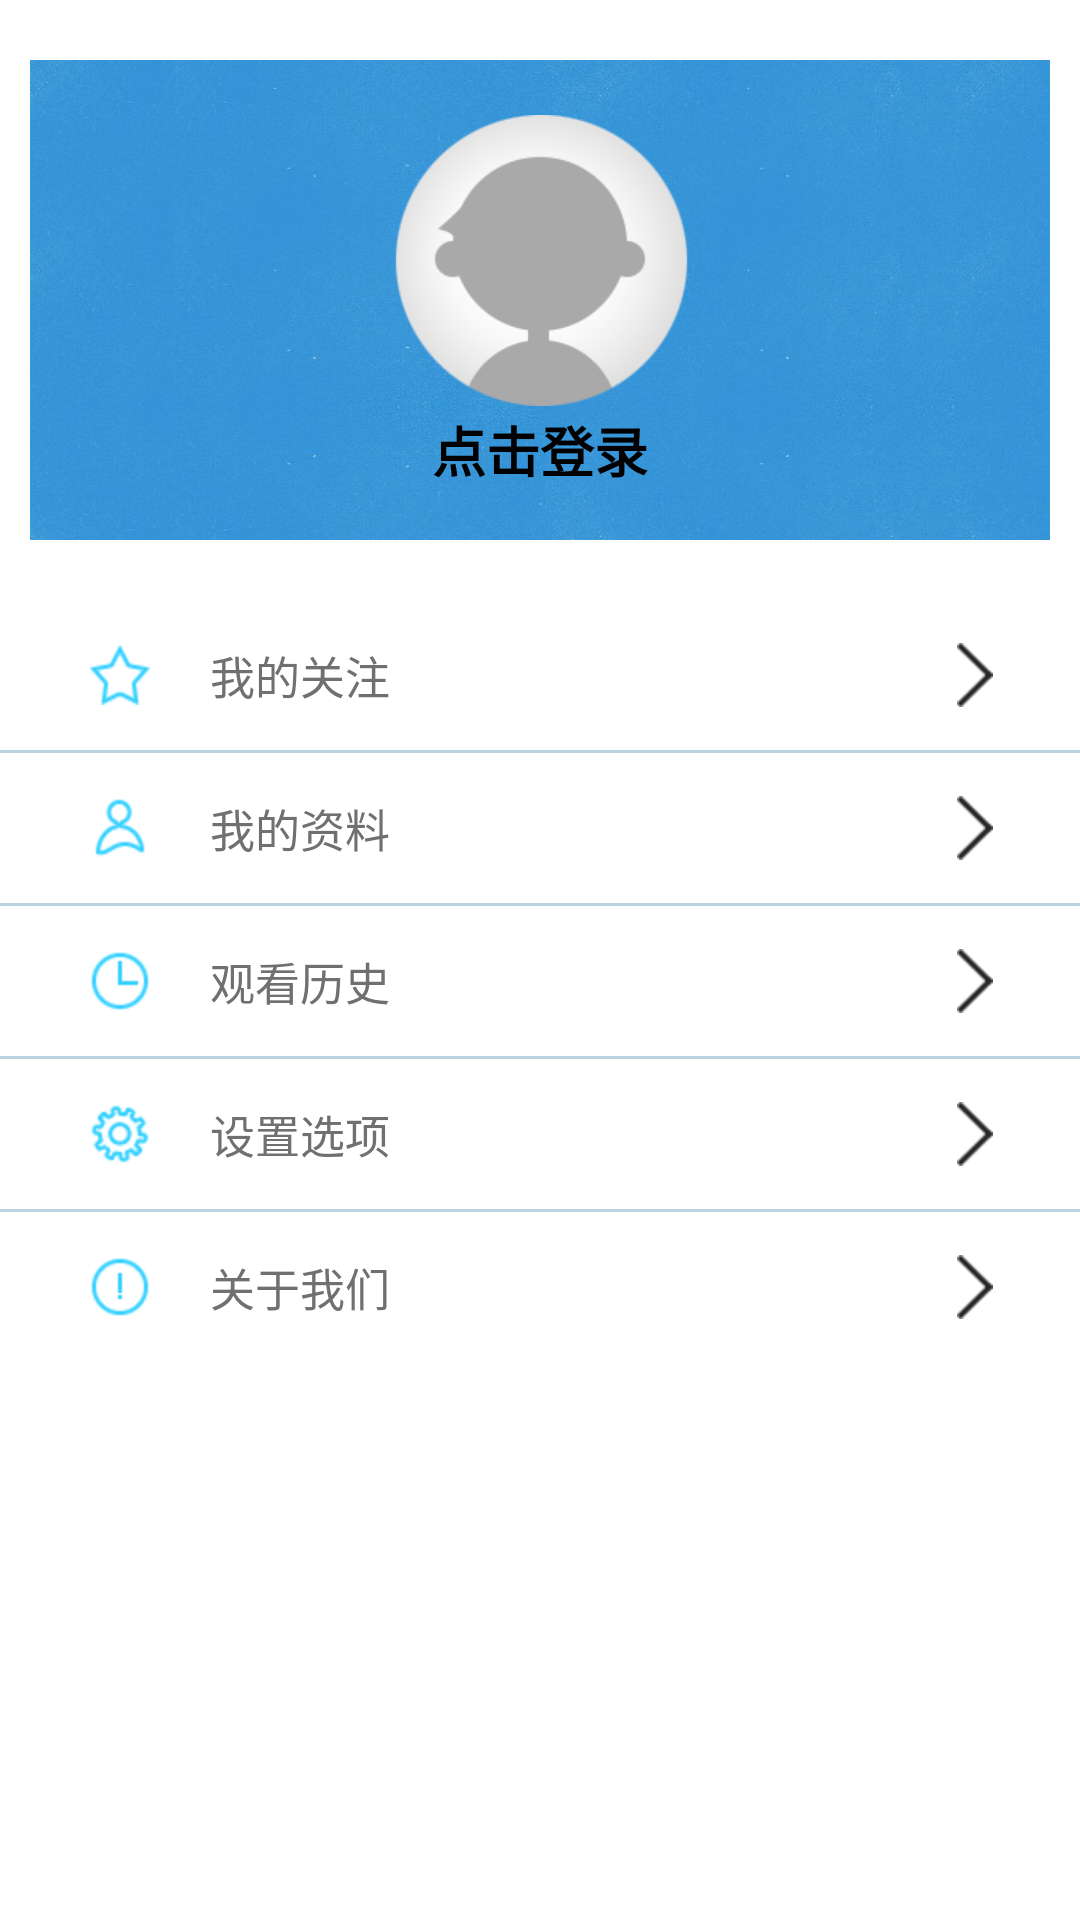

Locate icon controls on the screen. Image size 1080x1920, boxes as (x1, y1, x2, y2).
about: (91, 1258, 149, 1316)
arrow right indicator: (957, 643, 993, 707), (957, 796, 993, 860), (957, 949, 993, 1013), (957, 1102, 993, 1166), (957, 1255, 993, 1319)
attention: (90, 645, 150, 705)
history: (91, 952, 149, 1010)
information: (95, 799, 145, 856)
setting: (91, 1105, 149, 1163)
